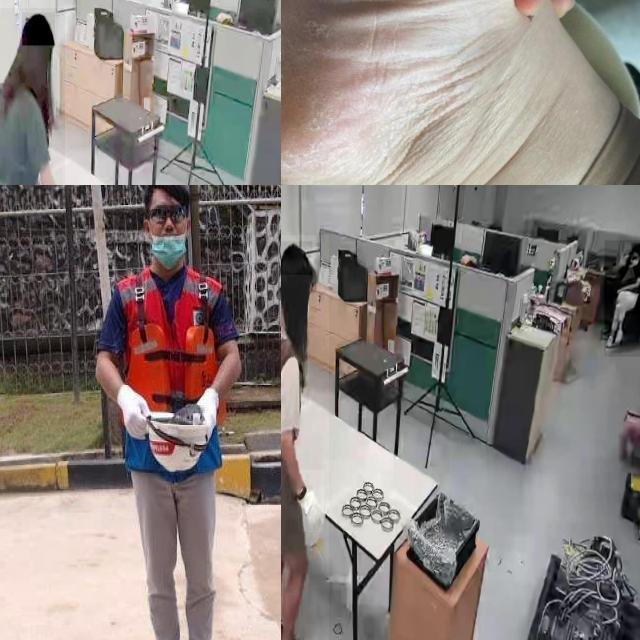Barefoots: (281, 0, 640, 185)
hand_glove: (298, 470, 324, 532)
head_helmet: (146, 407, 208, 478)
head_nohelmet: (22, 13, 56, 46), (281, 241, 313, 275), (631, 243, 640, 253)
person: (77, 185, 262, 640), (281, 234, 329, 640), (0, 8, 65, 185), (604, 240, 640, 357)
shoes: (614, 326, 624, 348), (605, 334, 614, 351)
vest: (116, 267, 225, 474)
